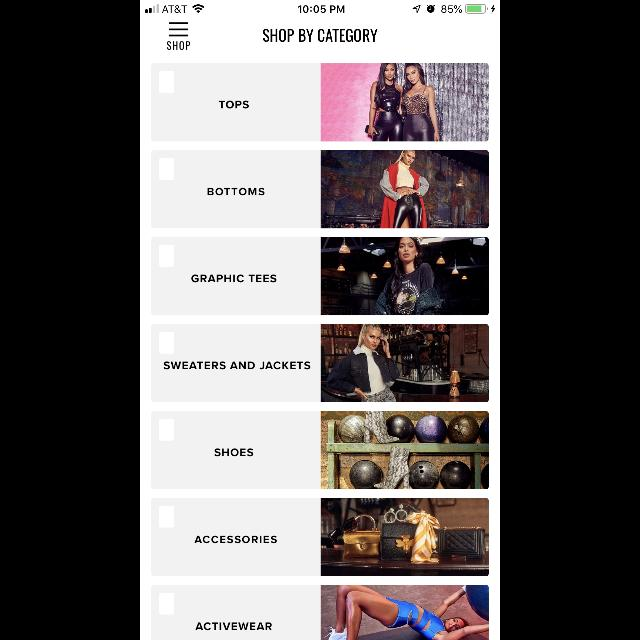icon: (170, 23, 188, 37)
image: (321, 498, 489, 576), (321, 411, 489, 489), (321, 324, 489, 402), (320, 237, 488, 315), (321, 151, 489, 229), (321, 63, 489, 141), (321, 584, 489, 640)
text: (263, 30, 377, 42), (164, 362, 310, 370), (192, 275, 276, 283), (195, 535, 277, 543), (196, 622, 272, 630), (208, 188, 264, 196), (214, 448, 253, 456), (219, 101, 249, 109), (168, 41, 190, 50)
uppertaskbar: (140, 0, 500, 14)
